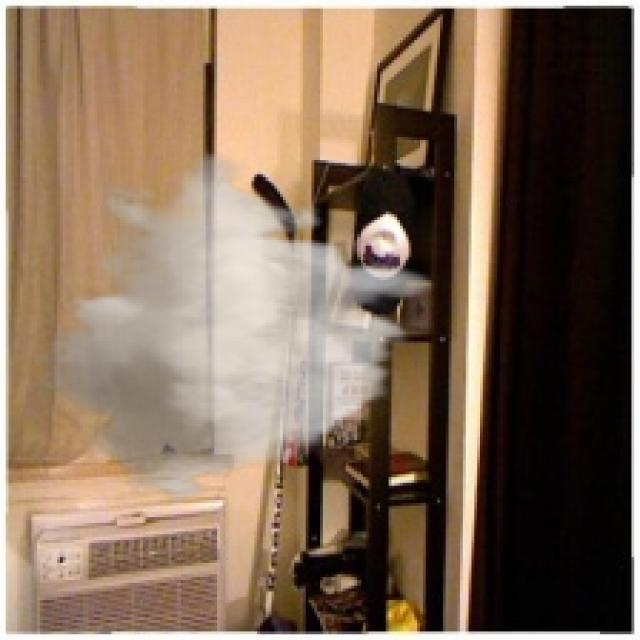Smoke: (22, 151, 434, 503)
